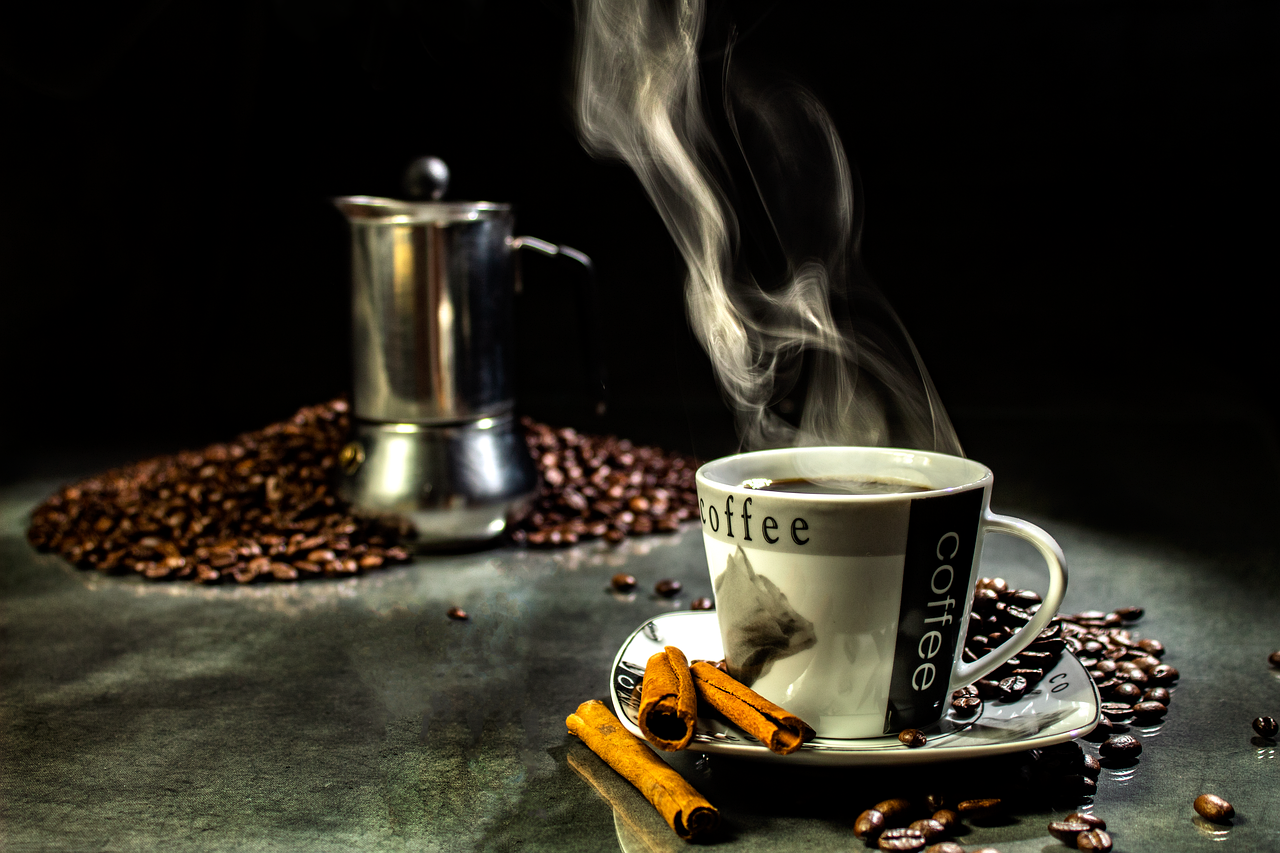mug: (670, 417, 1086, 788)
